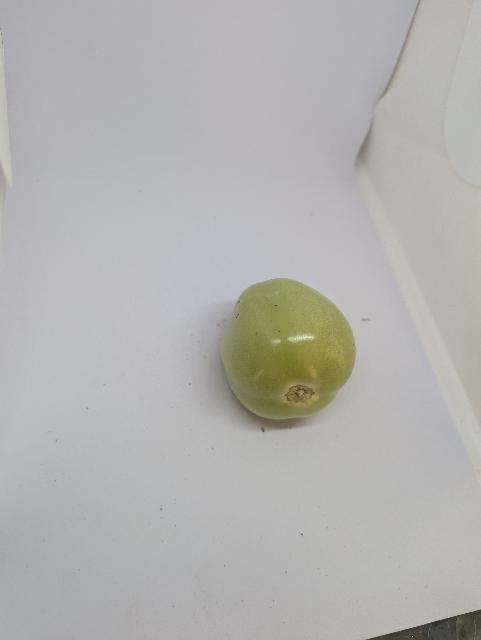green: (219, 276, 362, 421)
